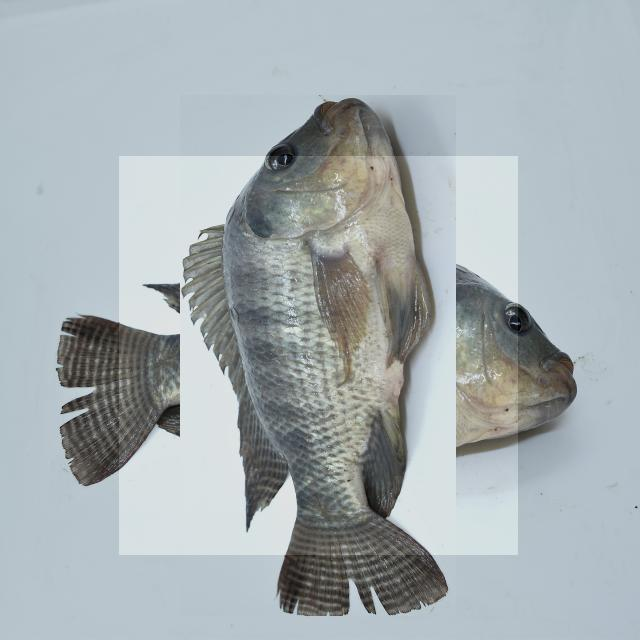Healthy Fish: (119, 156, 518, 555)
